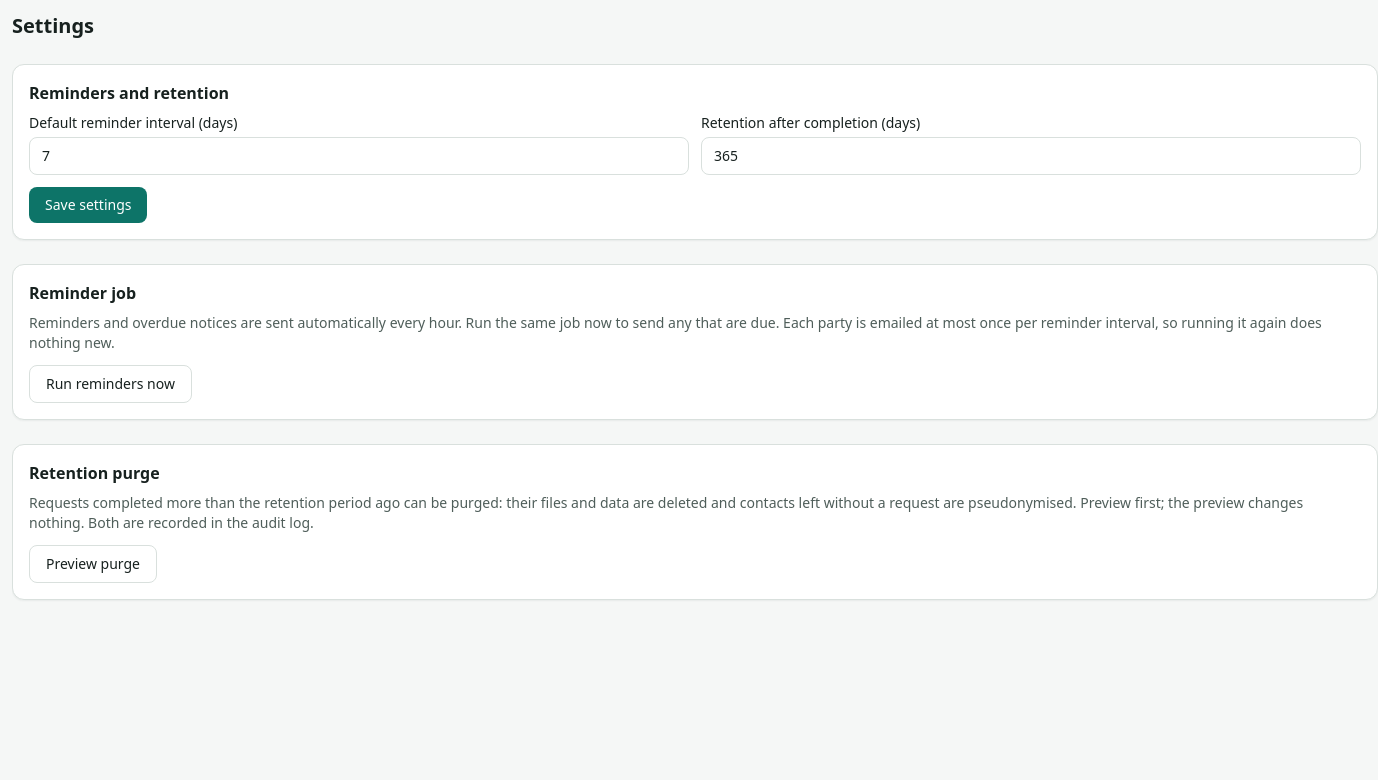
Test case: SettingsPage › runs the reminder job on request and shows the counts
The width and height of the screenshot is (1378, 780).
Click the button "Run reminders now" at (110, 384), box [29,365,192,403]
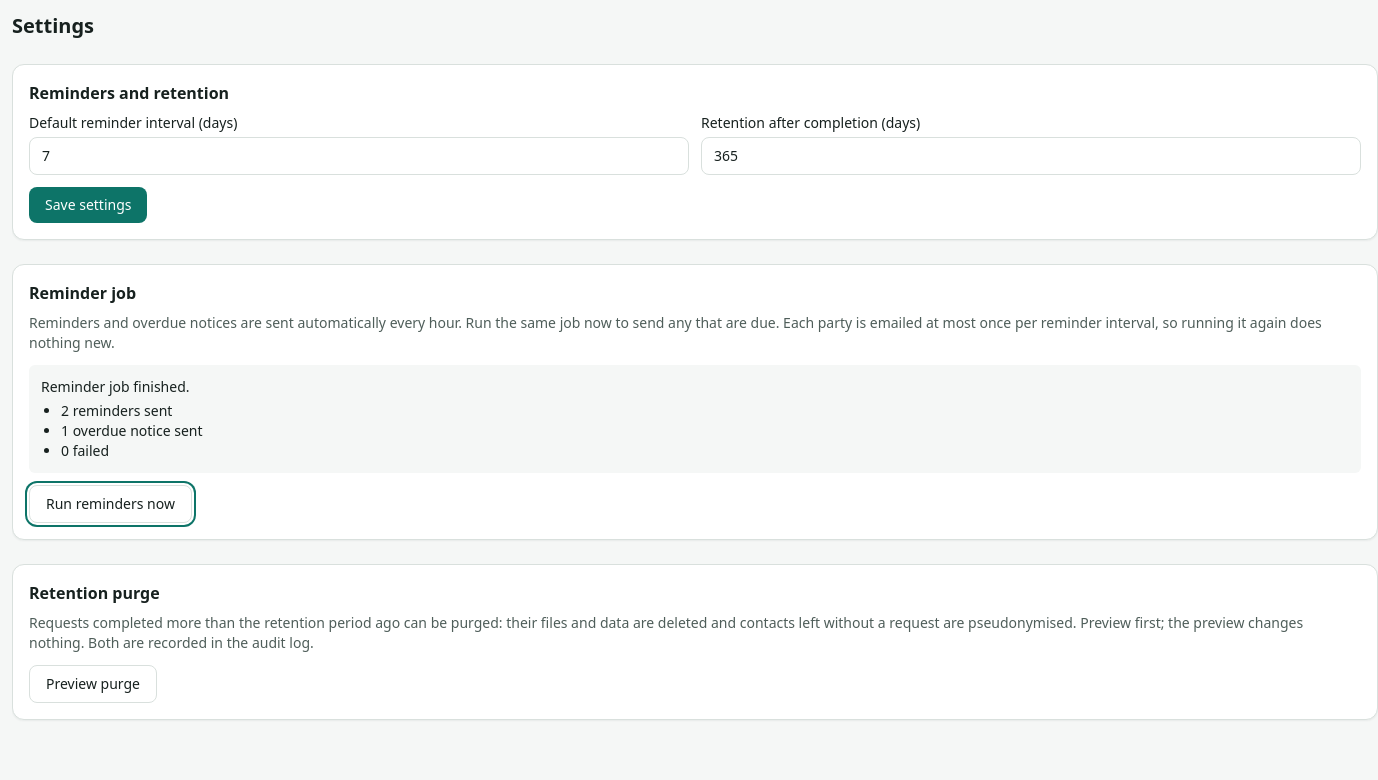
Now the message shows "2 reminders sent", box [29,365,1361,473]
Now the message shows "1 overdue notice sent", box [29,365,1361,473]
Now the message shows "0 failed", box [29,365,1361,473]
